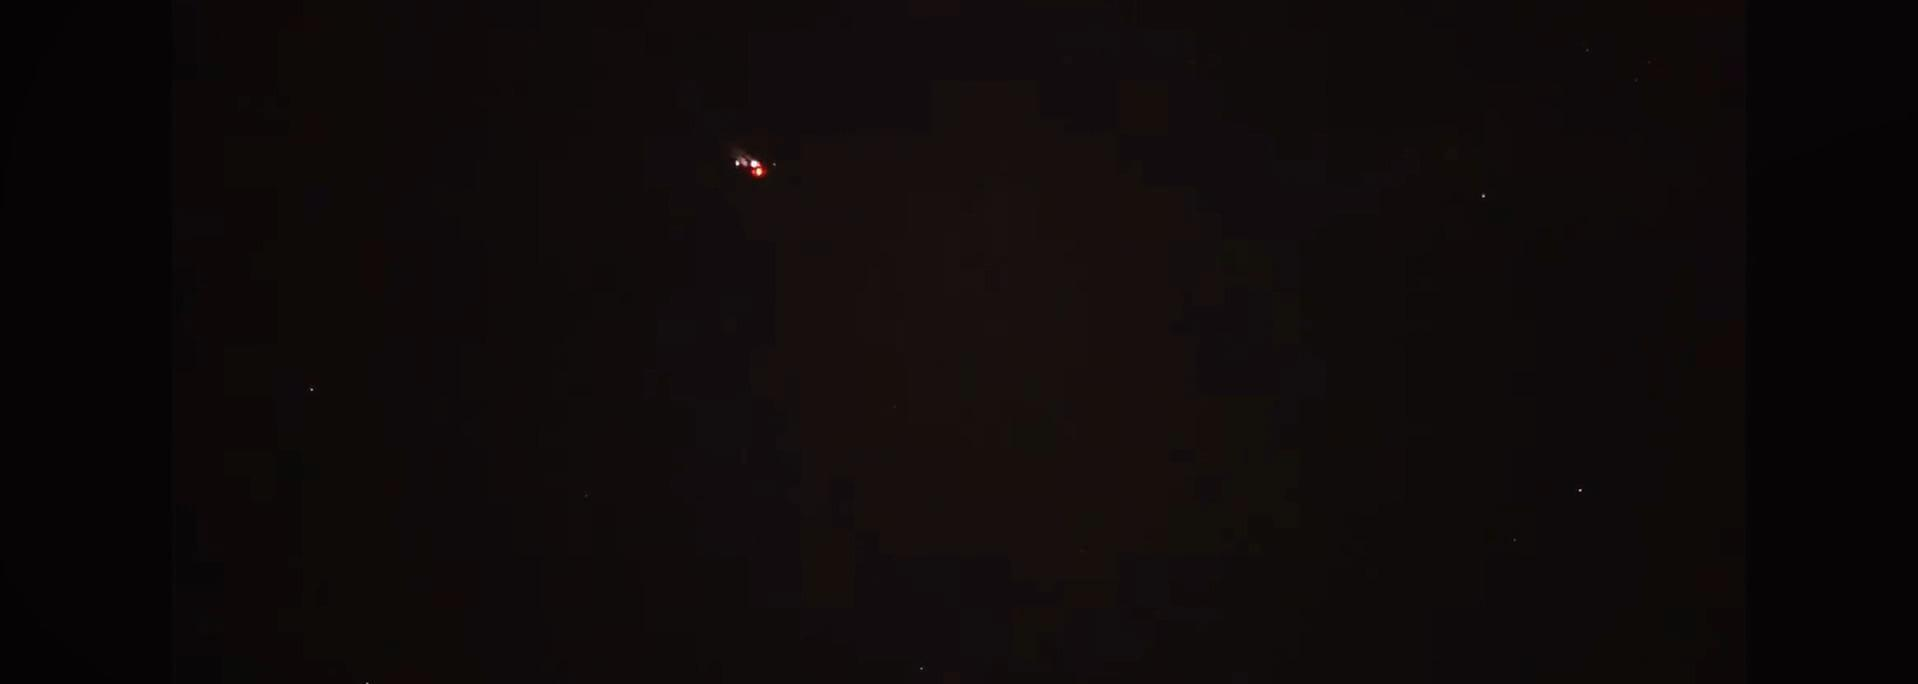Plane: (694, 127, 804, 197)
